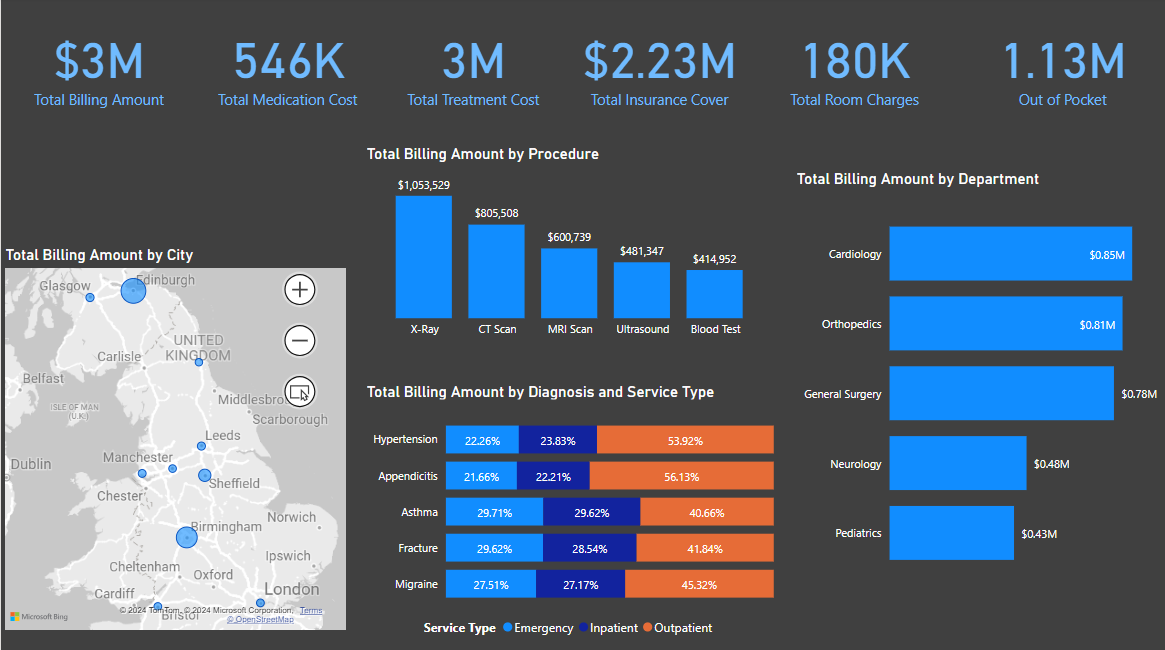

This screenshot's page, from the dashboard's own definition file:
{"tool":"powerbi","page":{"name":"Page 2","canvas":[1280,720],"ordinal":1},"visuals":[{"type":"card","title":"Billing Amount","fields":{"Values":["Dax Calculation.Total Billing Amount"]},"box":[0,74.1,215.4,111.1],"z":0},{"type":"card","fields":{"Values":["Dax Calculation.Total Medication Cost"]},"box":[198.9,74.1,198.9,111.1],"z":1000},{"type":"card","fields":{"Values":["Dax Calculation.Total Treatment Cost"]},"box":[414.3,74.1,208.5,111.1],"z":2000},{"type":"card","fields":{"Values":["Dax Calculation.Total Insurance Cover"]},"box":[622.9,74.1,200.3,111.1],"z":3000},{"type":"card","fields":{"Values":["Dax Calculation.Total Room Charges"]},"box":[823.2,74.1,227.7,111.1],"z":4000},{"type":"card","fields":{"Values":["Dax Calculation.Out of Pocket"]},"box":[1050.9,74.1,229.1,116.6],"z":5000},{"type":"map","fields":{"Category":["cities.City"],"Size":["Dax Calculation.Total Billing Amount"]},"box":[23.5,273.4,359,426.7],"z":6000},{"type":"clusteredColumnChart","fields":{"Category":["procedures.Procedure"],"Y":["Dax Calculation.Total Billing Amount"]},"box":[397.9,189.3,456.8,220.9],"z":7000},{"type":"hundredPercentStackedBarChart","fields":{"Y":["Dax Calculation.Total Billing Amount"],"Category":["diagnoses.Diagnosis"],"Series":["visits.Service Type"]},"box":[397.9,432.2,456.8,288.1],"z":7001},{"type":"clusteredBarChart","fields":{"Y":["Dax Calculation.Total Billing Amount"],"Category":["departments.Department"]},"box":[854.7,252.4,411.6,447.2],"z":7002},{"type":"textbox","box":[203,0,807.8,85.6],"z":7003}]}

Visuals, with their boxes in screenshot pixels (x1, y1, x2, y2), scaled from the page's 1280x720 canvas onto the 1165x650 screenshot:
"Billing Amount" card: {"x1": 0, "y1": 67, "x2": 196, "y2": 167}
card - Dax Calculation.Total Medication Cost: {"x1": 181, "y1": 67, "x2": 362, "y2": 167}
card - Dax Calculation.Total Treatment Cost: {"x1": 377, "y1": 67, "x2": 567, "y2": 167}
card - Dax Calculation.Total Insurance Cover: {"x1": 567, "y1": 67, "x2": 749, "y2": 167}
card - Dax Calculation.Total Room Charges: {"x1": 749, "y1": 67, "x2": 956, "y2": 167}
card - Dax Calculation.Out of Pocket: {"x1": 956, "y1": 67, "x2": 1164, "y2": 172}
map - cities.City x Dax Calculation.Total Billing Amount: {"x1": 21, "y1": 247, "x2": 348, "y2": 632}
clusteredColumnChart - procedures.Procedure x Dax Calculation.Total Billing Amount: {"x1": 362, "y1": 171, "x2": 778, "y2": 370}
hundredPercentStackedBarChart - Dax Calculation.Total Billing Amount x diagnoses.Diagnosis: {"x1": 362, "y1": 390, "x2": 778, "y2": 649}
clusteredBarChart - Dax Calculation.Total Billing Amount x departments.Department: {"x1": 778, "y1": 228, "x2": 1153, "y2": 632}
textbox: {"x1": 185, "y1": 0, "x2": 920, "y2": 77}
